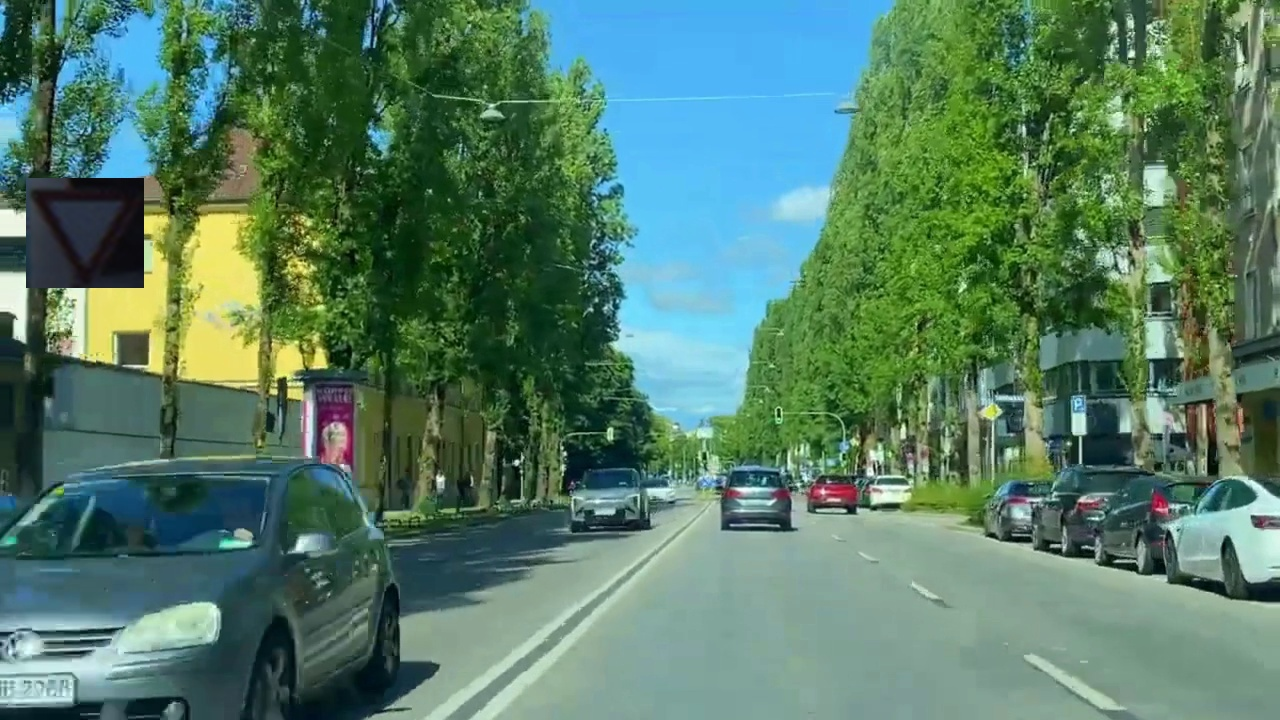Yield: (26, 178, 144, 288)
